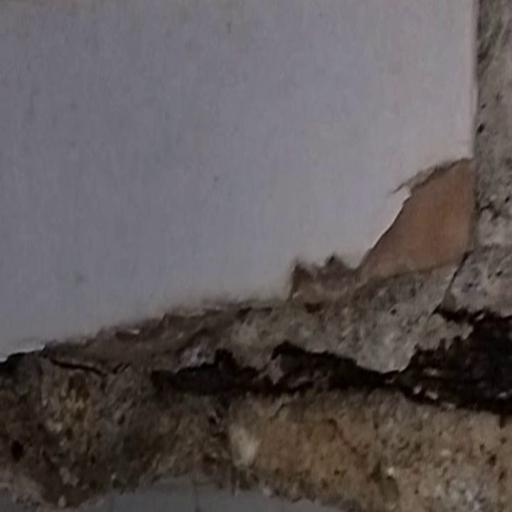spalling: (8, 170, 512, 512)
